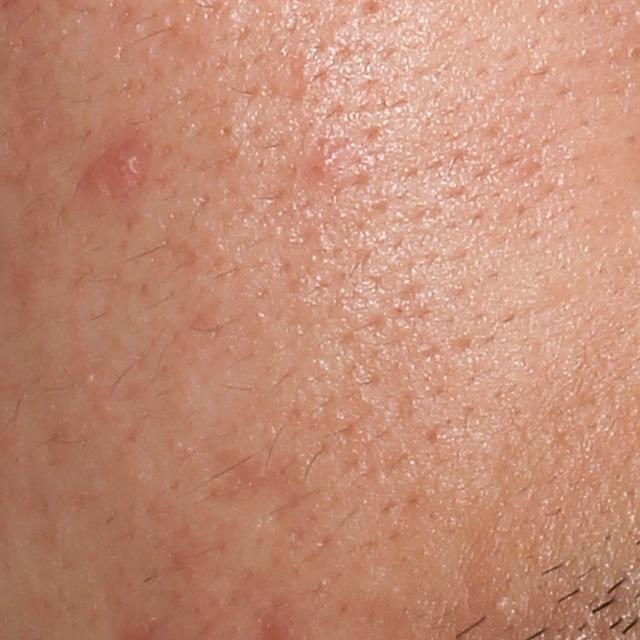atrophic_scar: (198, 447, 318, 514)
comedo: (488, 588, 517, 617), (214, 119, 238, 142)
papule: (83, 136, 151, 194)
